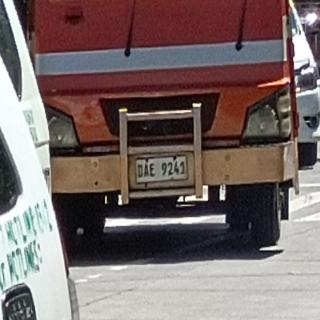license: (137, 157, 189, 185)
